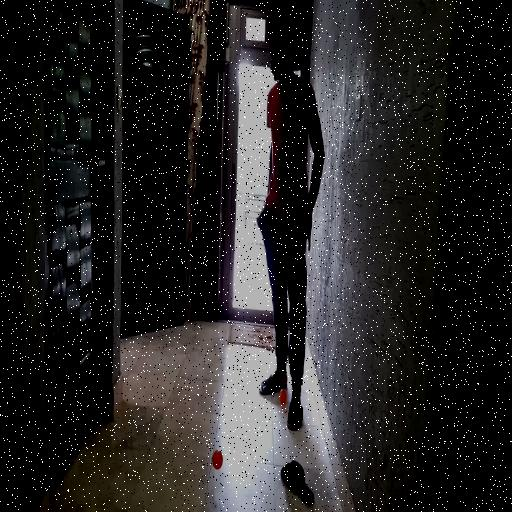plastic-ball: (212, 446, 224, 472)
